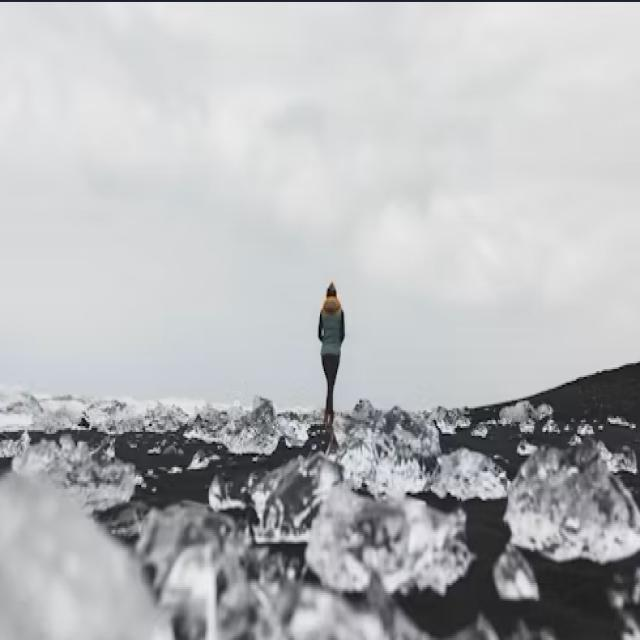Edited images: (305, 263, 362, 441)
